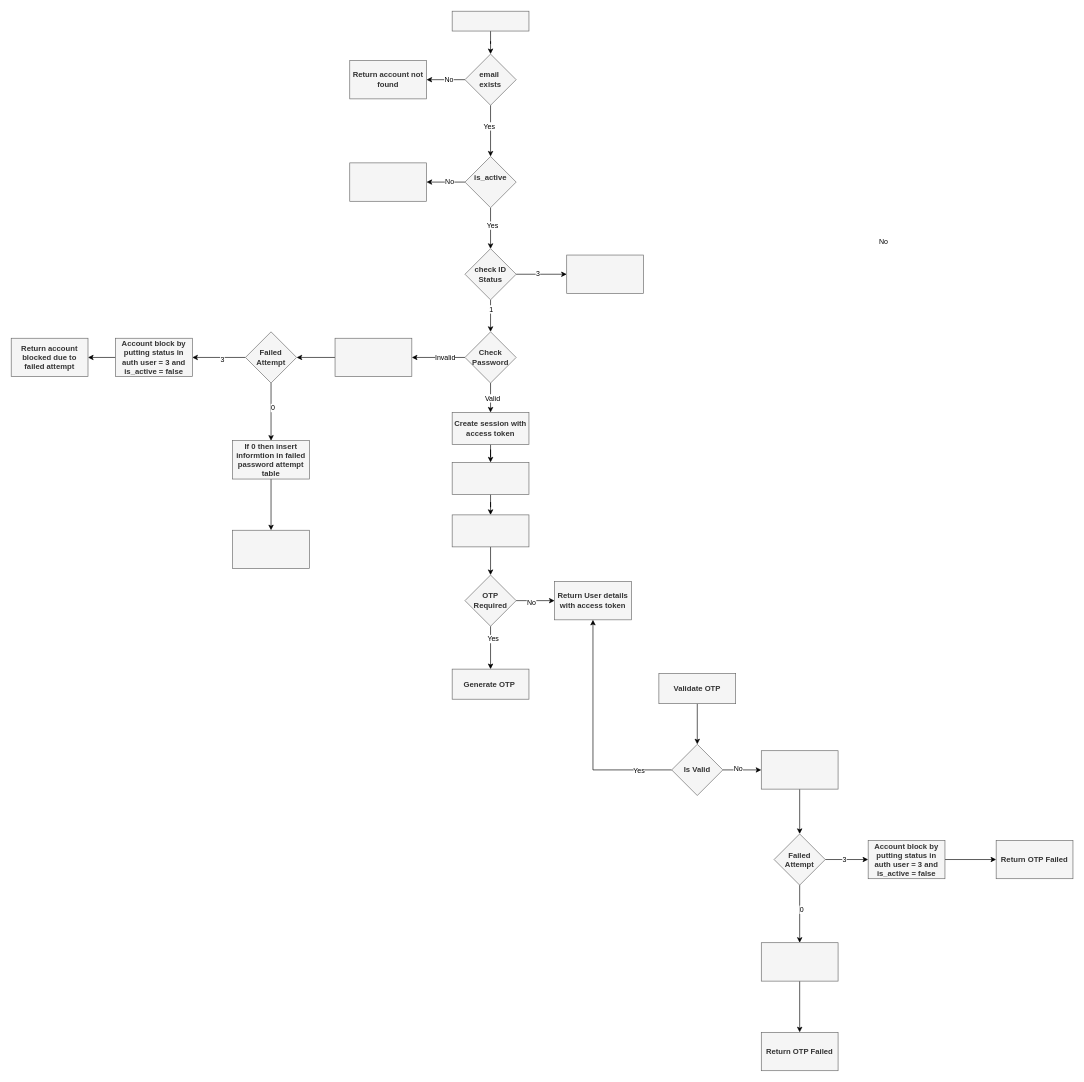
Image size: 1084x1082. Some labels were removed from this diagram. The centre of each missing label's shape, as x and y in pixels:
"Add Logs" belongs at (490,478).
"Check Failed Attempt" belongs at (799,769).
"Check Failed password attempt" belongs at (373,357).
"If 0 then insert informtion in failed otp attempt table" belongs at (799,961).
"LOGIN" belongs at (490,21).
"Remove any failed_pwd_attempt" belongs at (490,530).
"Return Account is Blocked contact Administrator" belongs at (605,273).
"Return password Failed" belongs at (270,549).
"Return the account is not active" belongs at (388,181).
